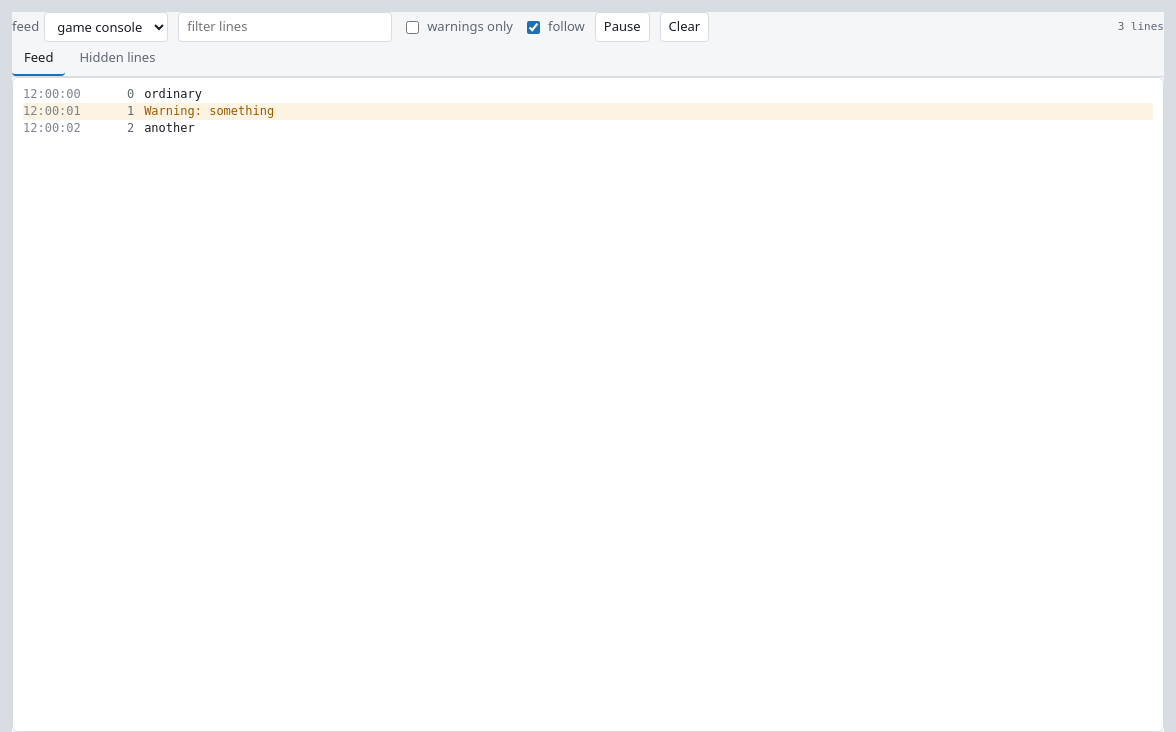
Test: filtering › matches text
Type "another" into the search field with placeholder "filter lines" at (285,27), box [178,12,392,42]
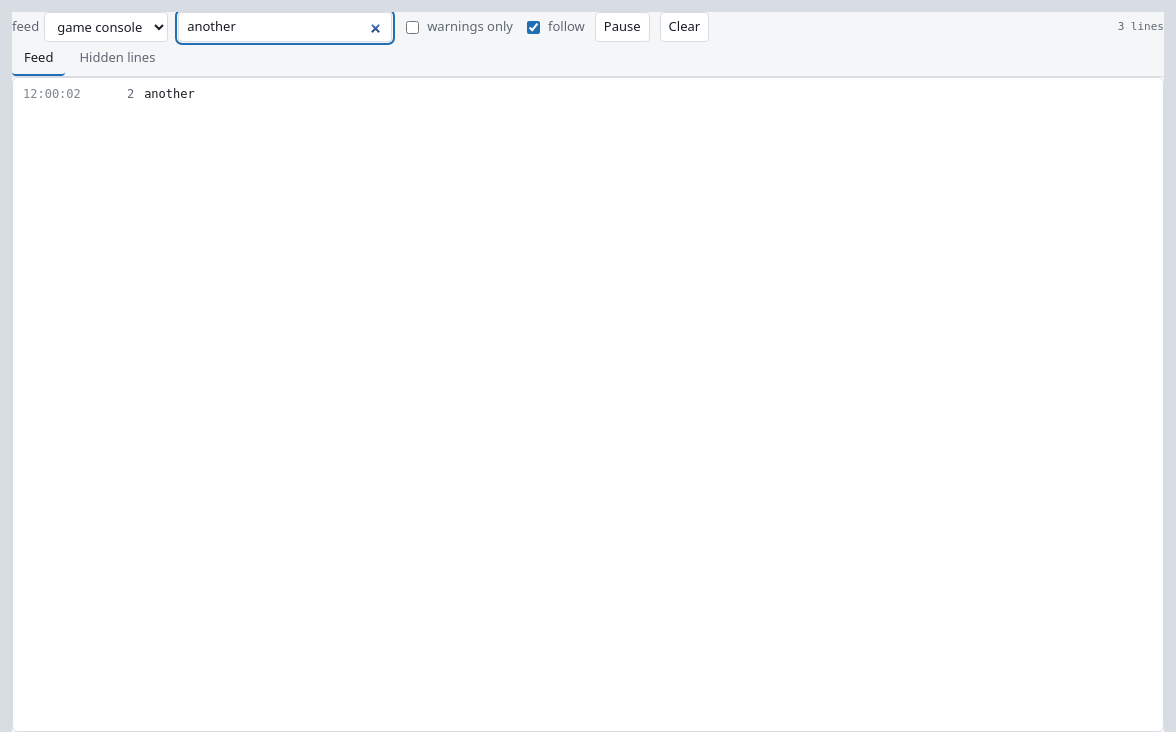
expect the text "another" is shown: met, box [144,86,195,100]
expect the text "ordinary" is gone: met
